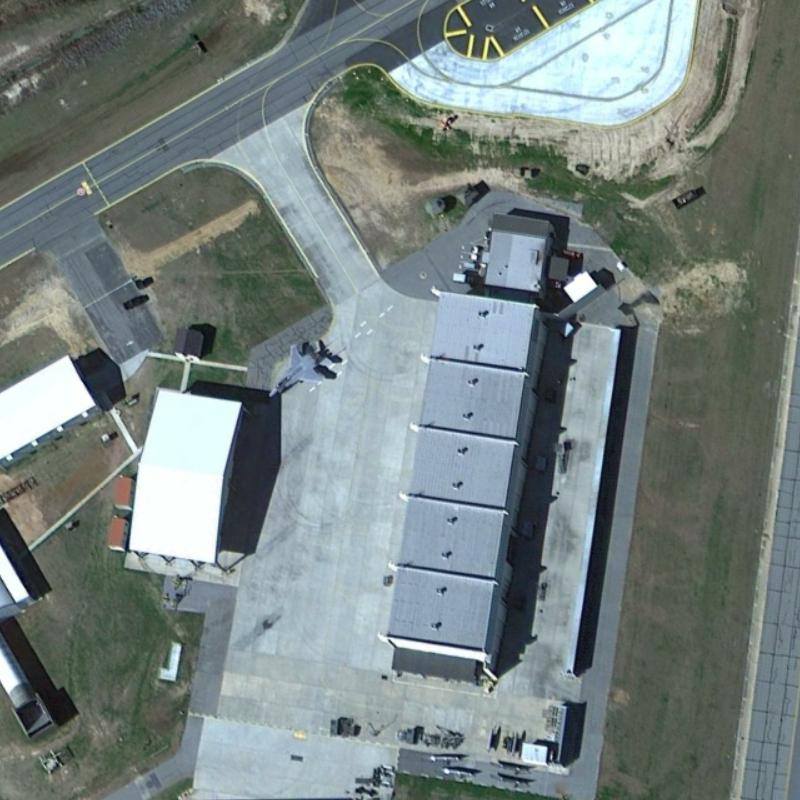A13: (265, 337, 330, 401)
